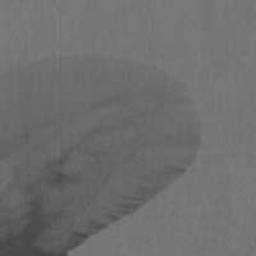Oil spot: (0, 52, 204, 256)
